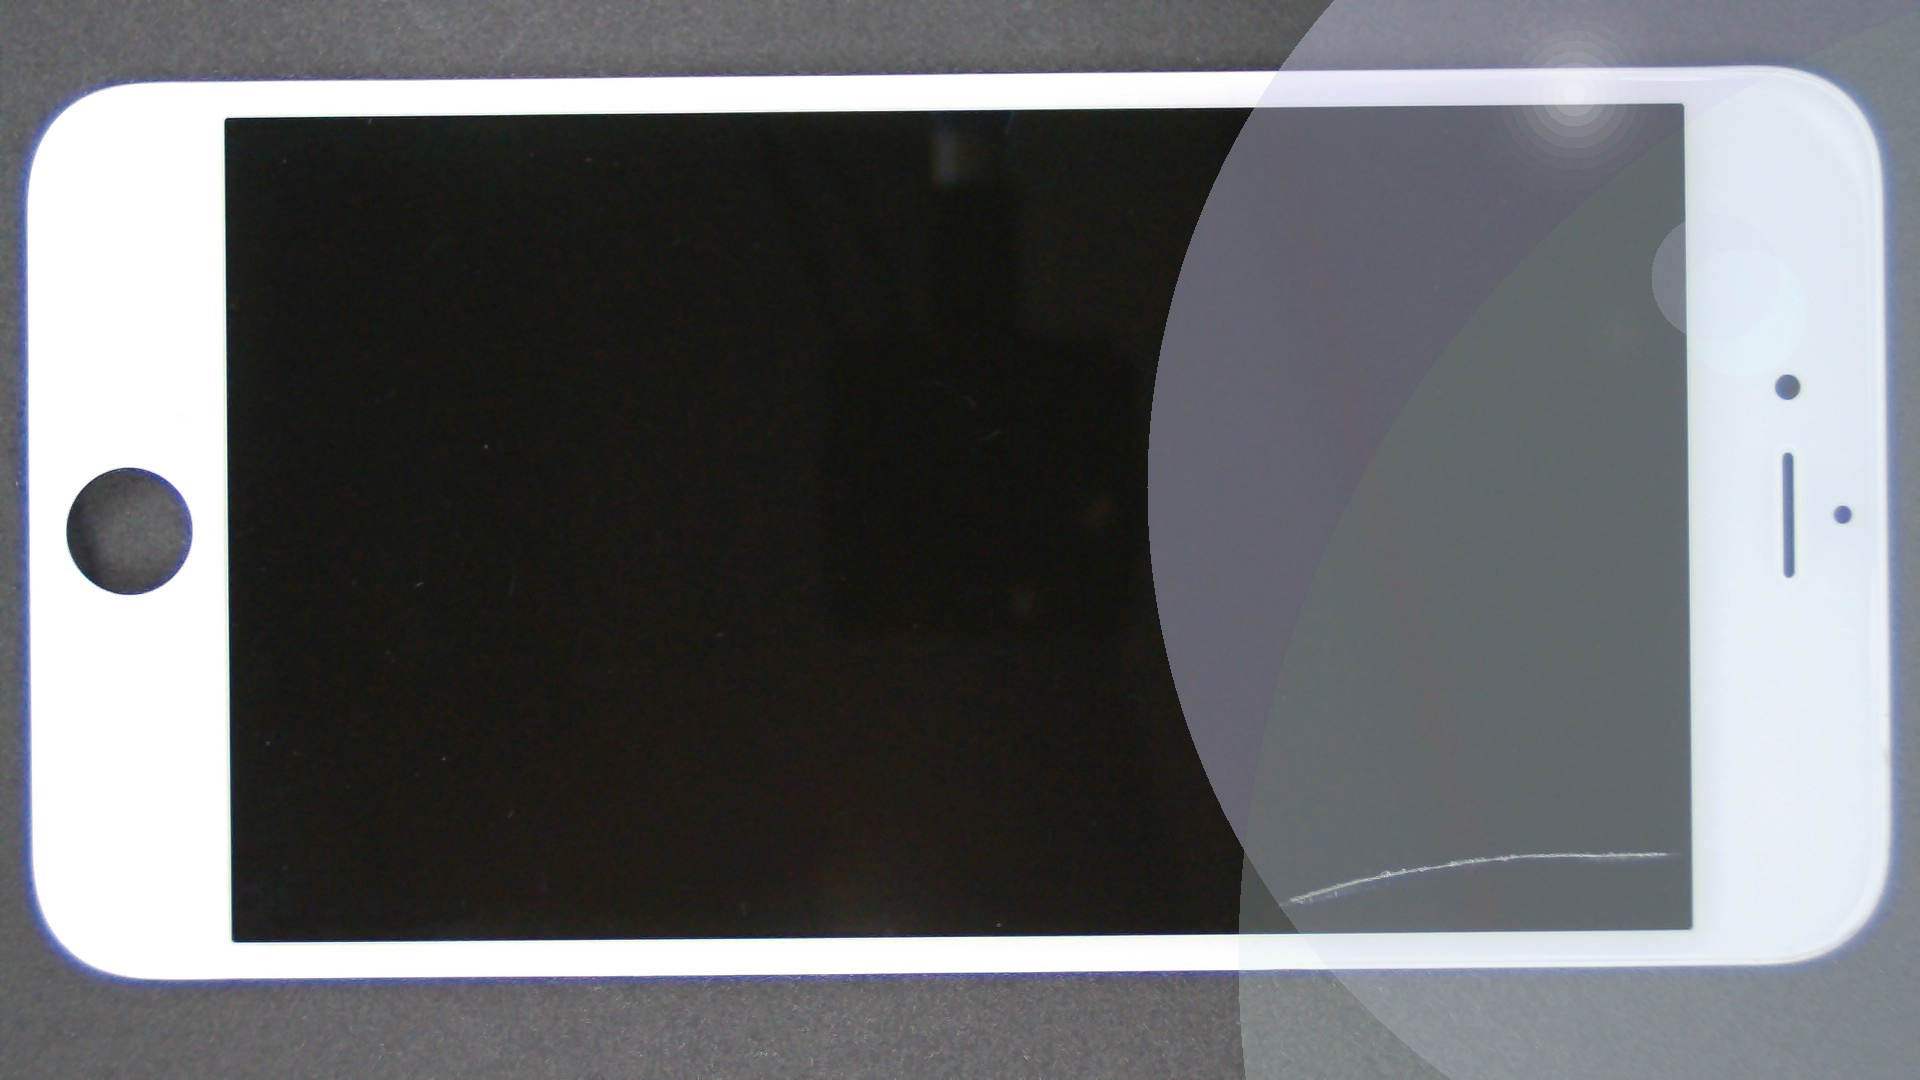oil: (829, 425, 1920, 1080)
